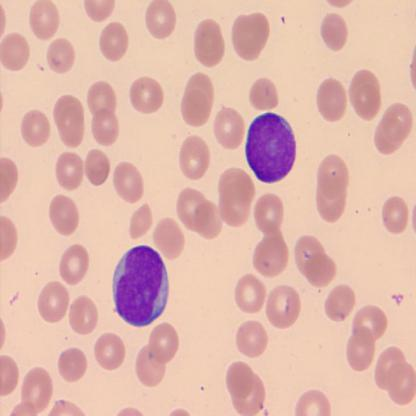Blast: (112, 243, 170, 327), (243, 111, 298, 185)
